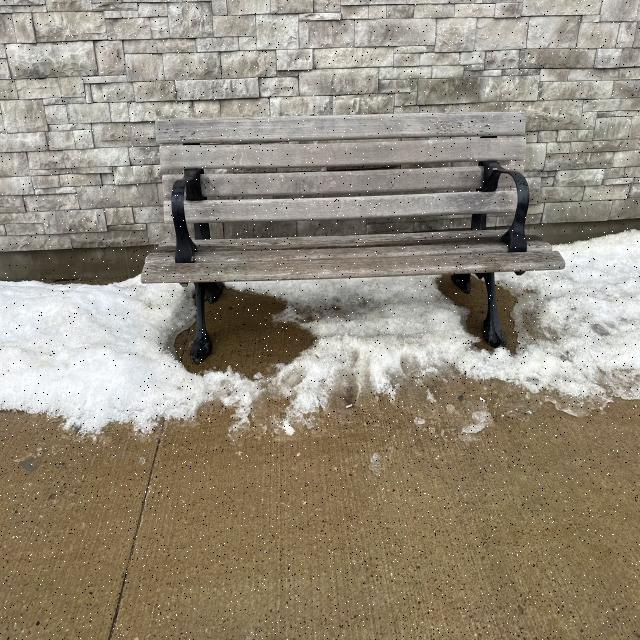Bench: (141, 110, 570, 360)
